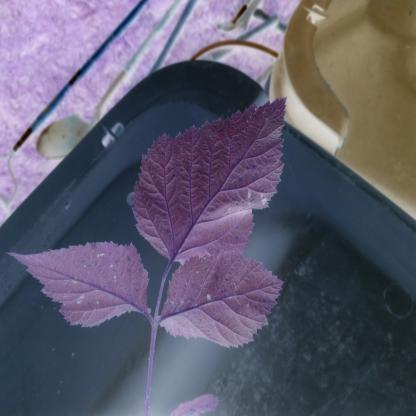Raspberry leaf: (130, 94, 289, 272), (5, 242, 150, 336), (164, 255, 284, 346)
